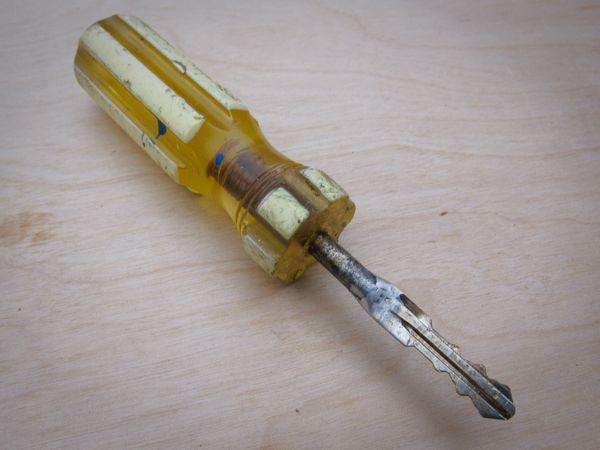Screwdriver: (67, 10, 522, 427)
